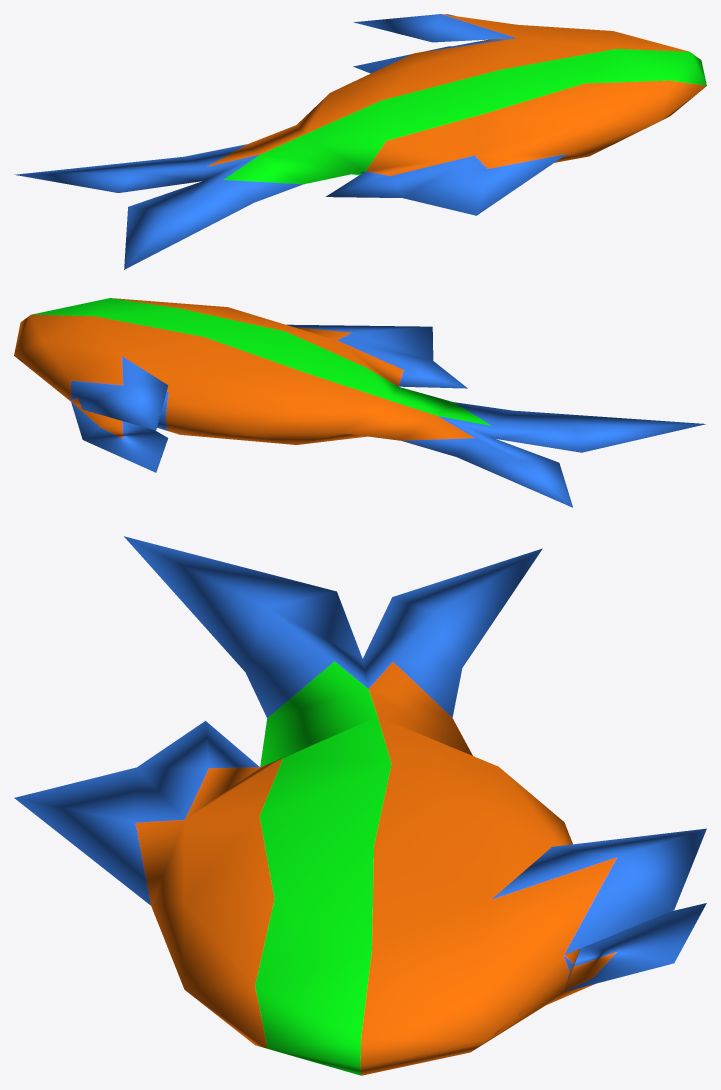
File: Fish.fbx
3 views of the same model, one above another, from view 1: azimuth 30°, elevation 25°; view 2: azimuth 150°, elevation 25°; view 3: azimuth 270°, elevation 25° (orthographic). The views are drawn at different scales.
Visible parts, largest first — view 1: Fish; view 2: Fish; view 3: Fish.
Part boxes in pixels (x1,y1,x2,y2): Fish: [14, 14, 706, 269]; Fish: [14, 298, 705, 507]; Fish: [14, 536, 706, 1075].
Bounding box in the file's own units: 2.81 × 0.2945 × 1.55.
